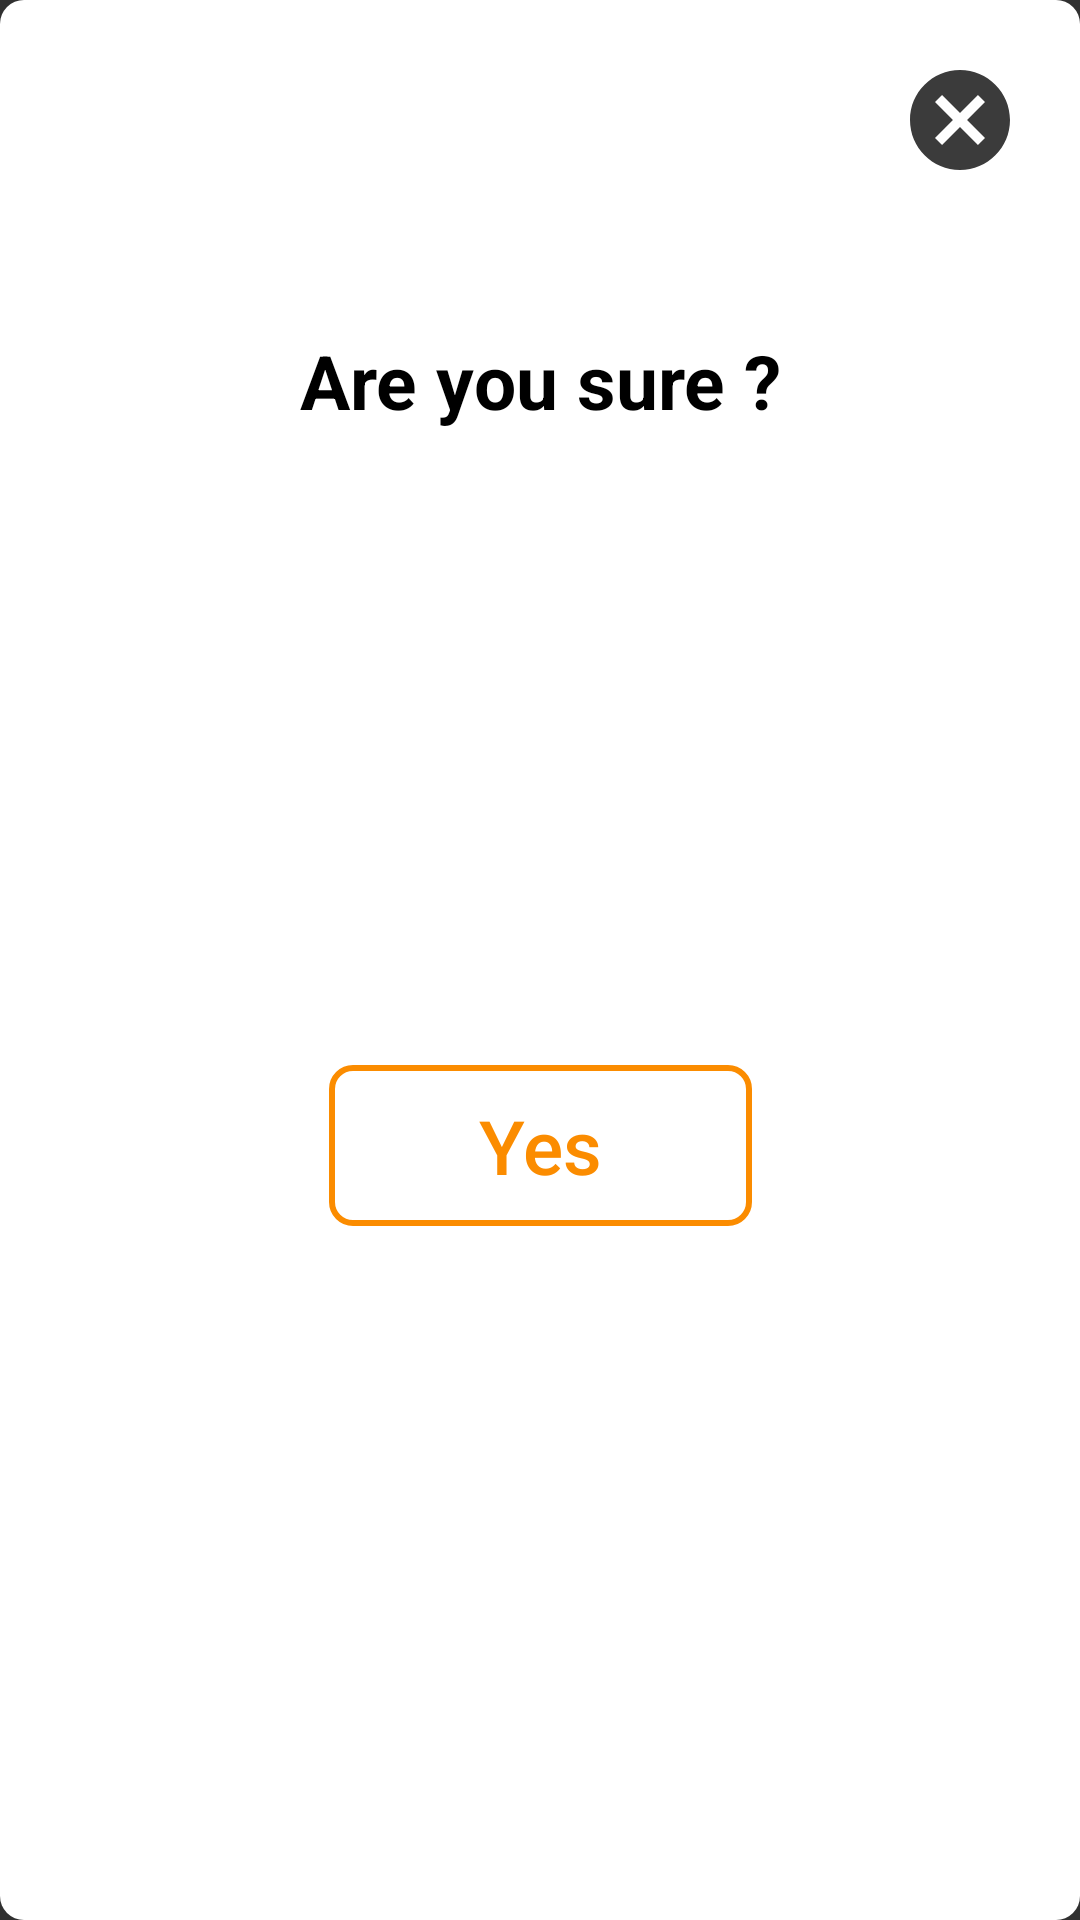

Where to tap for icons on this 1080px×1920px app screen, as (x,y):
cancel: (960,120)
